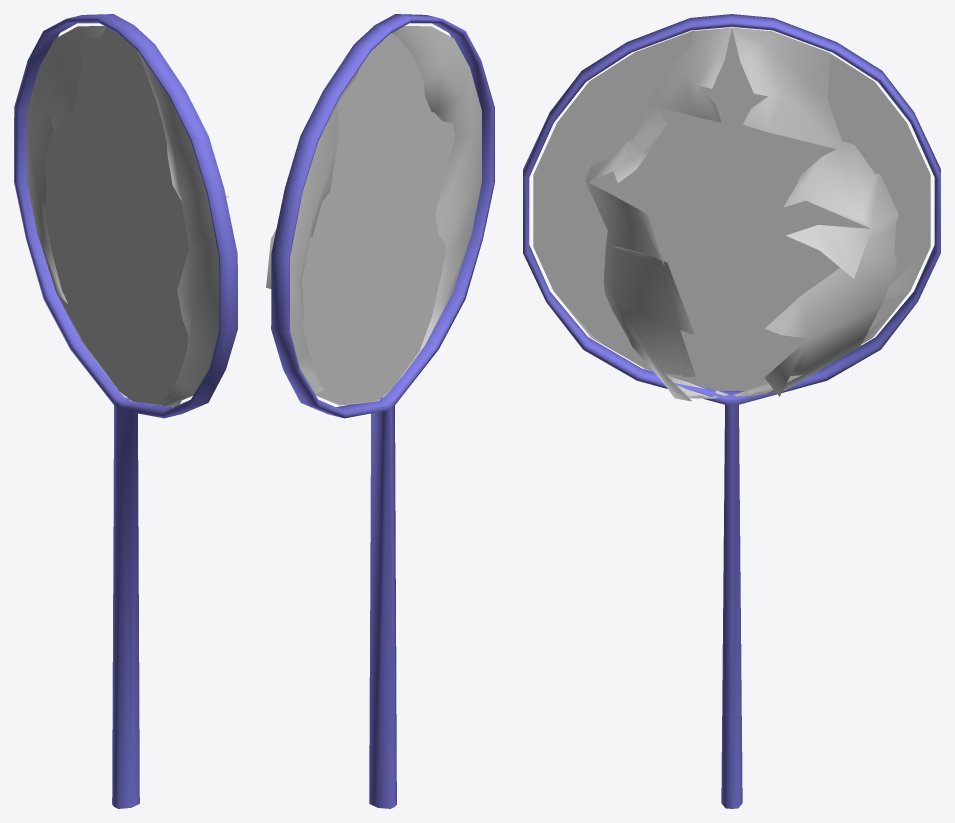
The model's file is capturapeixos.fbx.
3 views of the same model, side by side, from view 1: azimuth 30°, elevation 25°; view 2: azimuth 150°, elevation 25°; view 3: azimuth 270°, elevation 25° (orthographic).
Visible parts, largest first — view 1: Cylinder.009, paletaPeixos, Cylinder.010; view 2: Cylinder.009, paletaPeixos, Cylinder.010; view 3: Cylinder.009, Cylinder.010, paletaPeixos.
Part boxes in pixels (x1=…): Cylinder.009: x1=44, y1=26, x2=189, y2=404; paletaPeixos: x1=14, y1=14, x2=237, y2=808; Cylinder.010: x1=27, y1=26, x2=229, y2=406; Cylinder.009: x1=301, y1=26, x2=455, y2=405; paletaPeixos: x1=271, y1=14, x2=494, y2=808; Cylinder.010: x1=266, y1=26, x2=481, y2=405; Cylinder.009: x1=533, y1=27, x2=930, y2=390; Cylinder.010: x1=533, y1=27, x2=930, y2=401; paletaPeixos: x1=523, y1=14, x2=940, y2=808.
Bounding box in the file's own units: 4.63 × 39.57 × 19.09.
